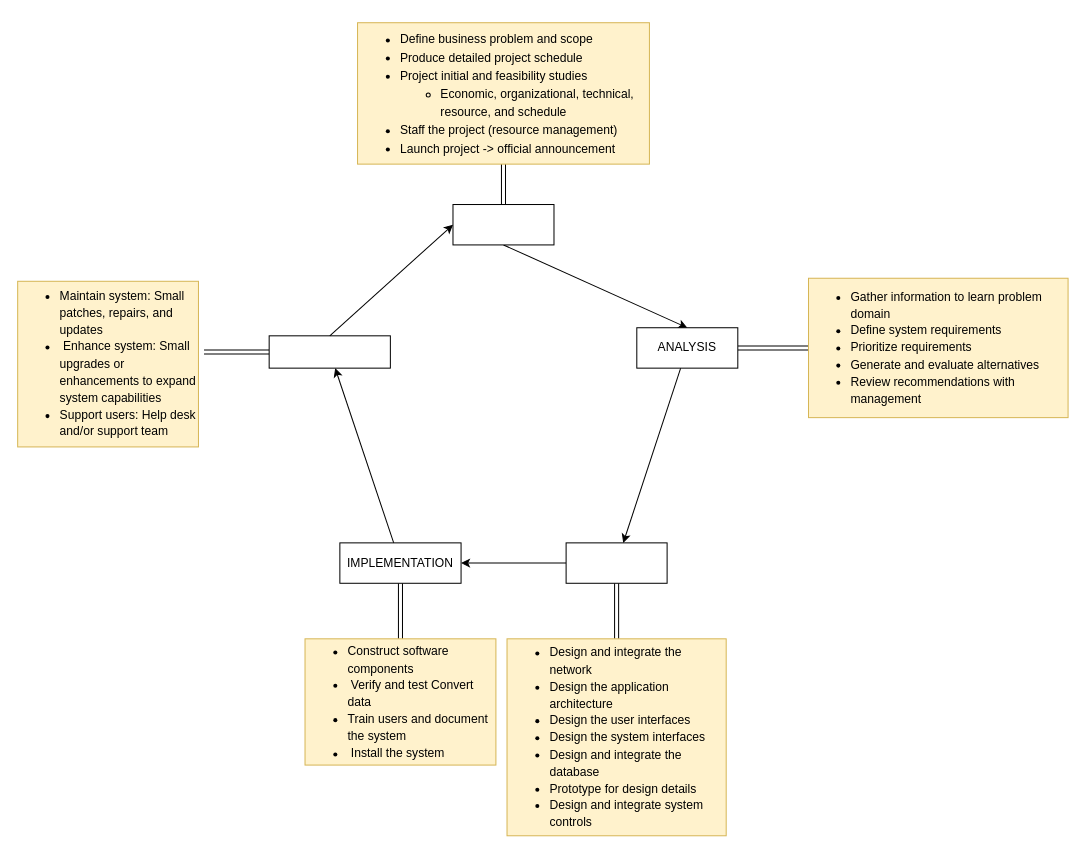
Image size: 1086x860. Some labels were removed from this diagram. Each missing label, with the centre of its shape:
DESIGN: (x=616, y=562)
MAINTENANCE: (x=329, y=351)
PLANNING: (x=503, y=224)
